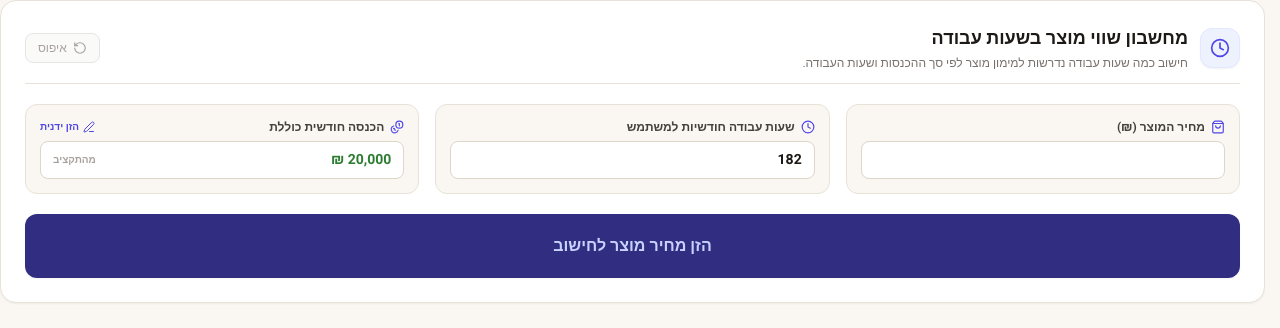
WorkHoursCostCalculator Component › updates calculation when changing price input
The image size is (1280, 328).
In the number field named "מחיר המוצר": (1043, 160) [861, 141, 1225, 179], type "500"
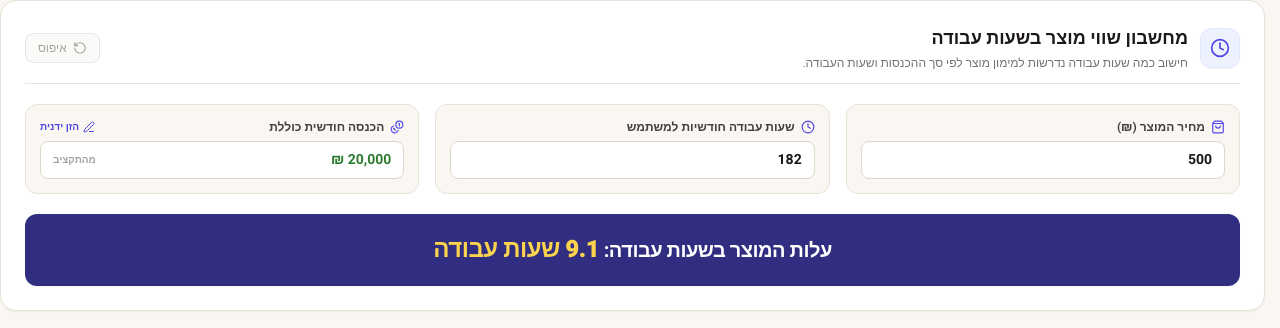
Now the text "9.1 שעות עבודה" is shown, box [433, 232, 599, 267]
